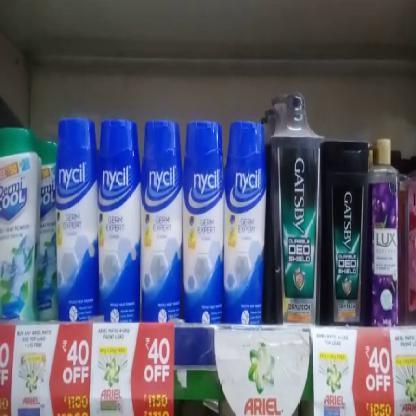Nycil Prickly Heat Powder: (99, 118, 140, 322), (56, 121, 96, 326)
